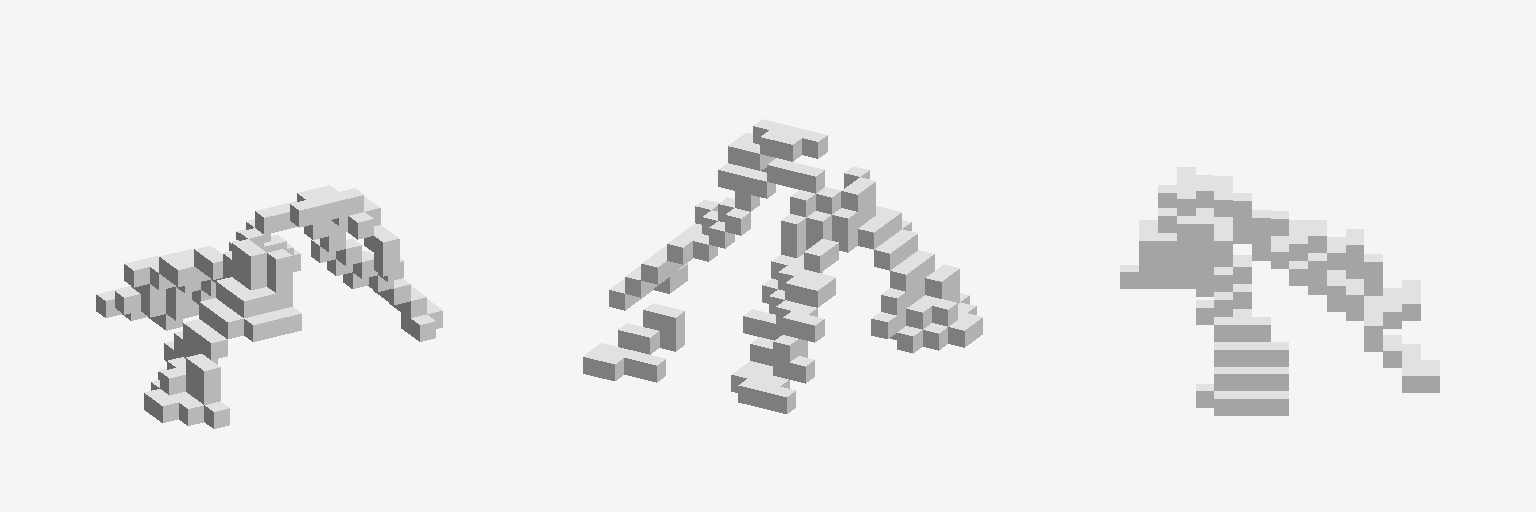
The model's file is Smol-Stone-0.obj.
The picture shows the model from 3 angles: view 1: azimuth 30°, elevation 25°; view 2: azimuth 150°, elevation 25°; view 3: azimuth 270°, elevation 25°; orthographic projection.
Visible parts, largest first — view 1: object 1; view 2: object 1; view 3: object 1.
Part boxes in pixels (x1,y1,x2,y2): object 1: (96,185,442,428); object 1: (583,119,982,413); object 1: (1120,167,1439,415).
Size of the model in its own units: 1.9 by 1 by 1.7.